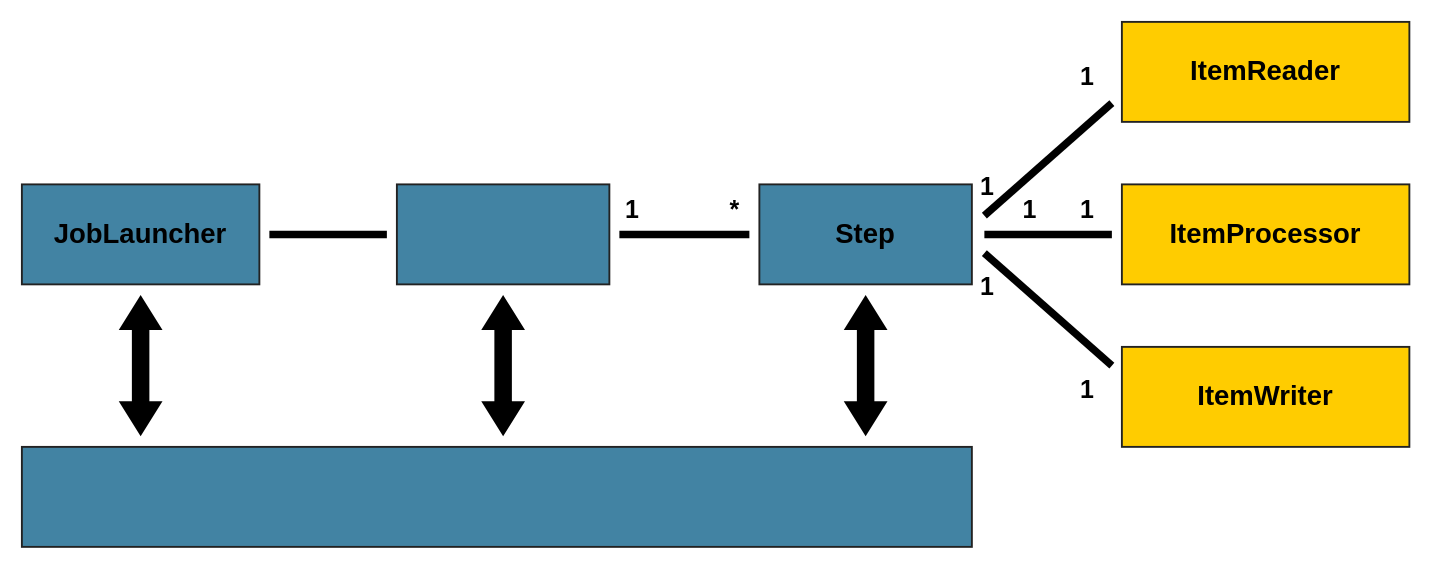
Image size: 1433x570. Some labels were removed from this diagram. The box of each missing label's shape, as (x1, y1, x2, y2) in pixels:
Job: (395, 183, 610, 285)
JobRepository: (20, 445, 972, 547)
